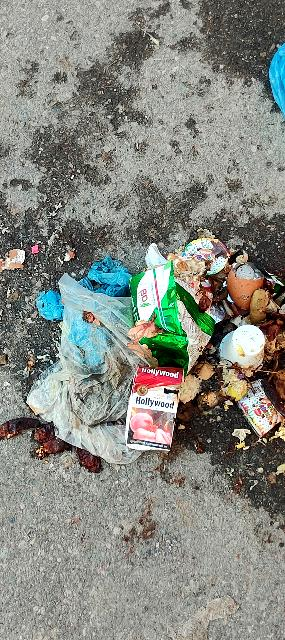polythene: (28, 279, 167, 465)
